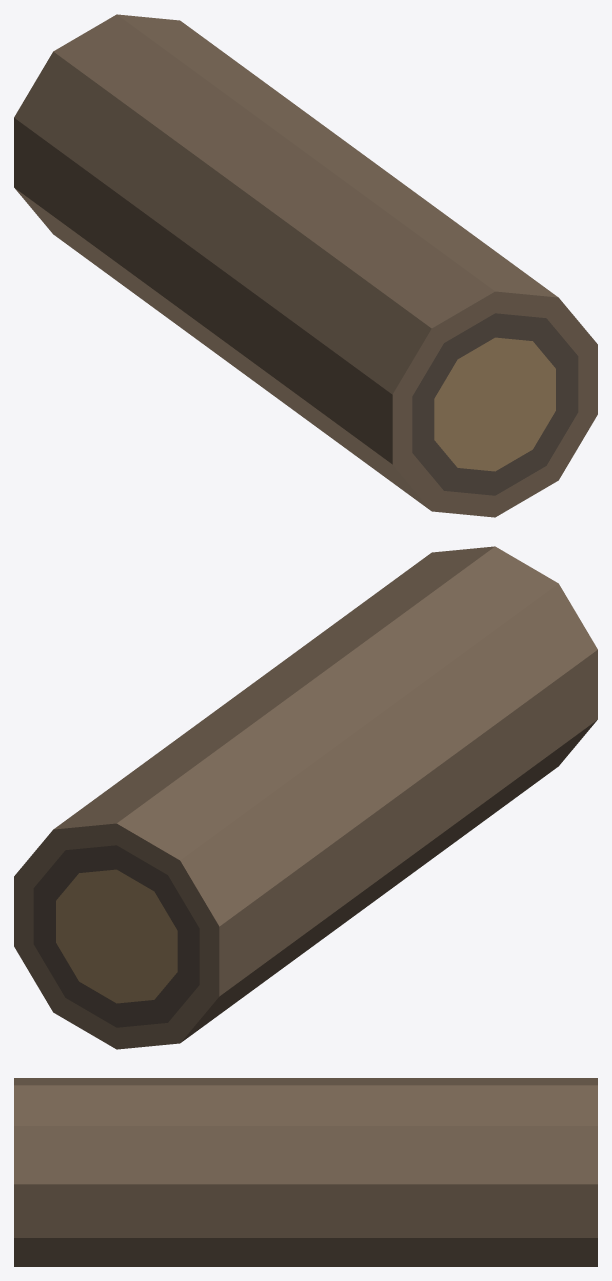
File: Wood.fbx
3 renders of one model, top to bottom at view 1: azimuth 30°, elevation 25°; view 2: azimuth 150°, elevation 25°; view 3: azimuth 270°, elevation 25°, orthographic. The views are drawn at different scales.
Visible parts, largest first — view 1: Wood; view 2: Wood; view 3: Wood.
Part boxes in pixels (x1=…): Wood: x1=14, y1=14, x2=597, y2=517; Wood: x1=14, y1=546, x2=597, y2=1049; Wood: x1=14, y1=1078, x2=597, y2=1266.
Bounding box in the file's own units: 51.97 × 54.65 × 166.
